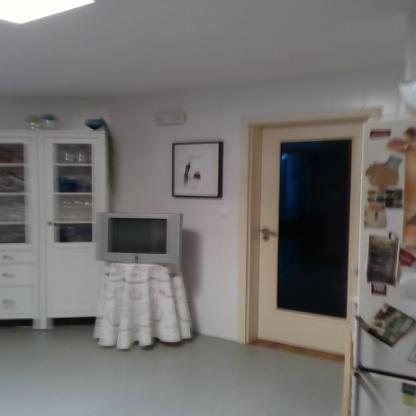door: (256, 129, 352, 352)
lever: (256, 228, 280, 238)
